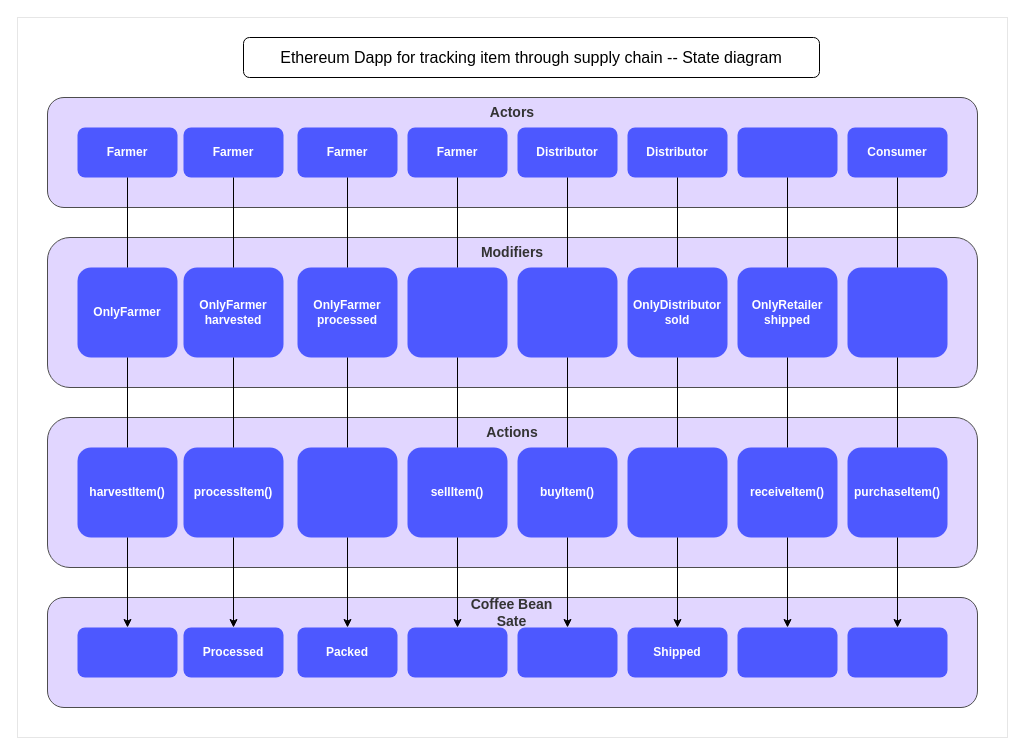
Image size: 1025x755. Some labels were removed from this diagram. The shapes that lost their labels are listed below. From the top down, each one's centre as x and y in pixels, then its label:
the point at 787,152: Retailer
the point at 457,312: OnlyFarmer packed
the point at 567,312: Only Distributor forSale paidEnough
the point at 897,312: OnlyConsumer received
the point at 347,492: packItem()
the point at 677,492: shipItem()
the point at 127,652: Harvested
the point at 457,652: ForSale
the point at 567,652: Sold
the point at 787,652: Received
the point at 897,652: Purchased
